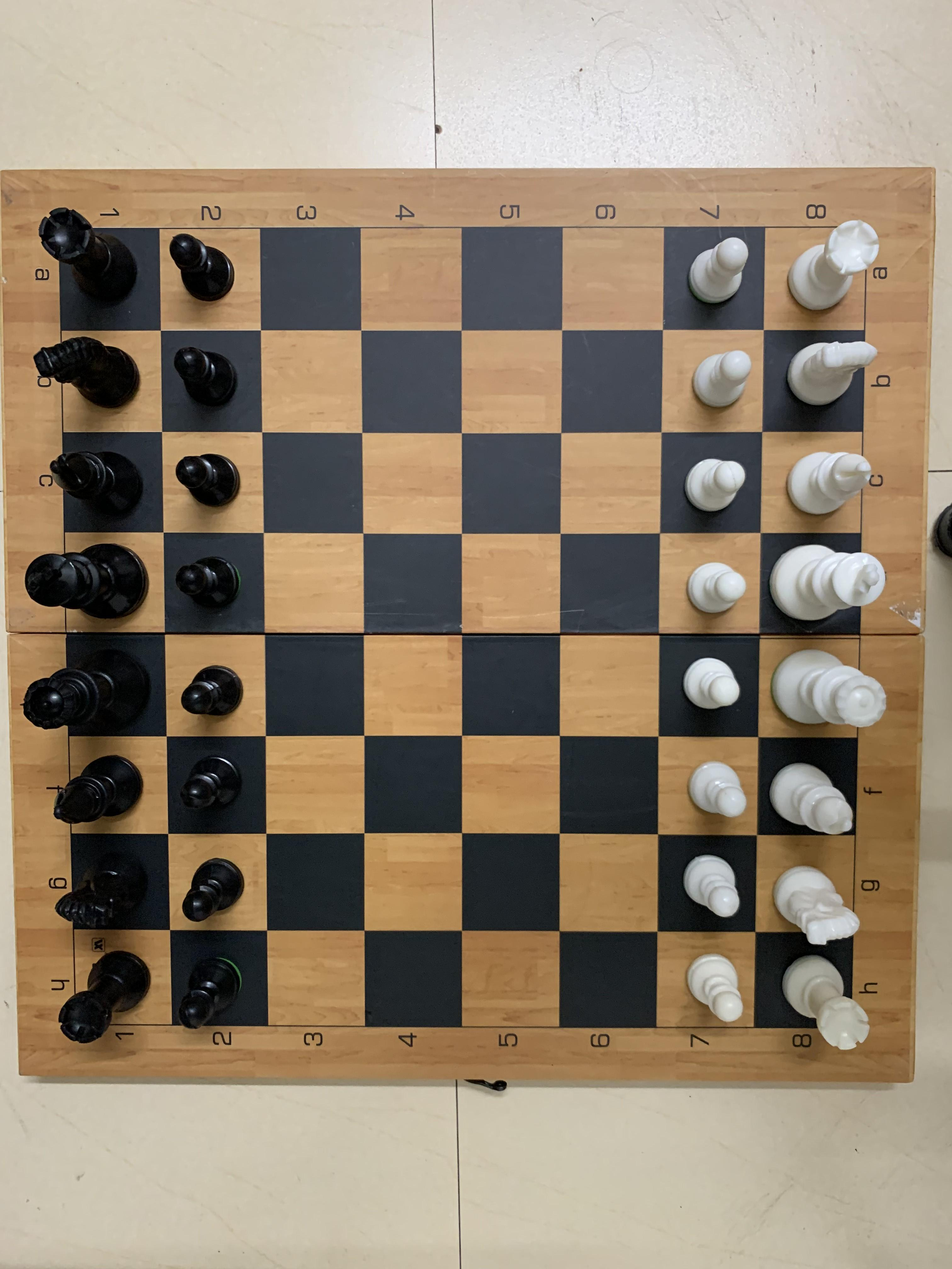black_bishop: (49, 749, 152, 825), (45, 446, 148, 520)
black_king: (22, 538, 153, 627)
black_knight: (28, 328, 145, 418), (50, 841, 151, 930)
black_pawn: (169, 946, 252, 1033), (164, 223, 236, 308), (166, 341, 241, 418), (173, 758, 260, 822), (164, 442, 246, 508), (169, 657, 252, 721), (170, 556, 247, 618), (182, 854, 246, 926)
black_queen: (13, 645, 150, 737)
black_rook: (29, 197, 147, 315), (56, 943, 153, 1040)
white_bishop: (768, 757, 863, 842), (785, 448, 878, 516)
white_king: (764, 541, 886, 628)
white_knight: (766, 855, 870, 950), (788, 334, 882, 410)
white_pawn: (679, 232, 759, 313), (681, 948, 757, 1030), (679, 844, 744, 925), (689, 338, 757, 415), (684, 753, 756, 825), (679, 450, 747, 516), (674, 651, 742, 717), (684, 552, 749, 621)
white_queen: (766, 643, 901, 738)
white_rook: (775, 951, 876, 1055), (790, 214, 883, 322)
